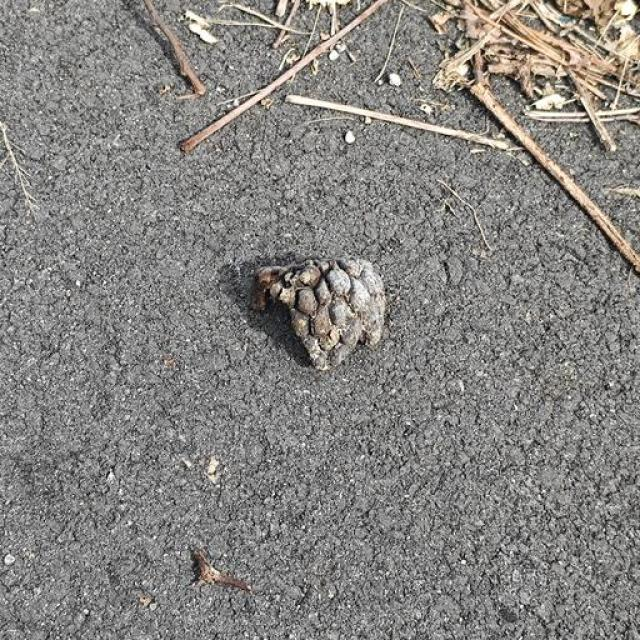organic: (41, 125, 505, 485)
